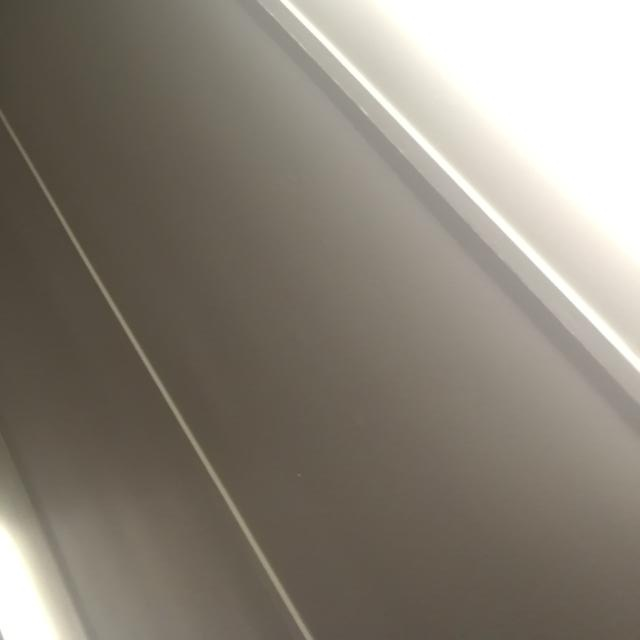fluorescent tube: (210, 0, 640, 350), (0, 486, 90, 640)
